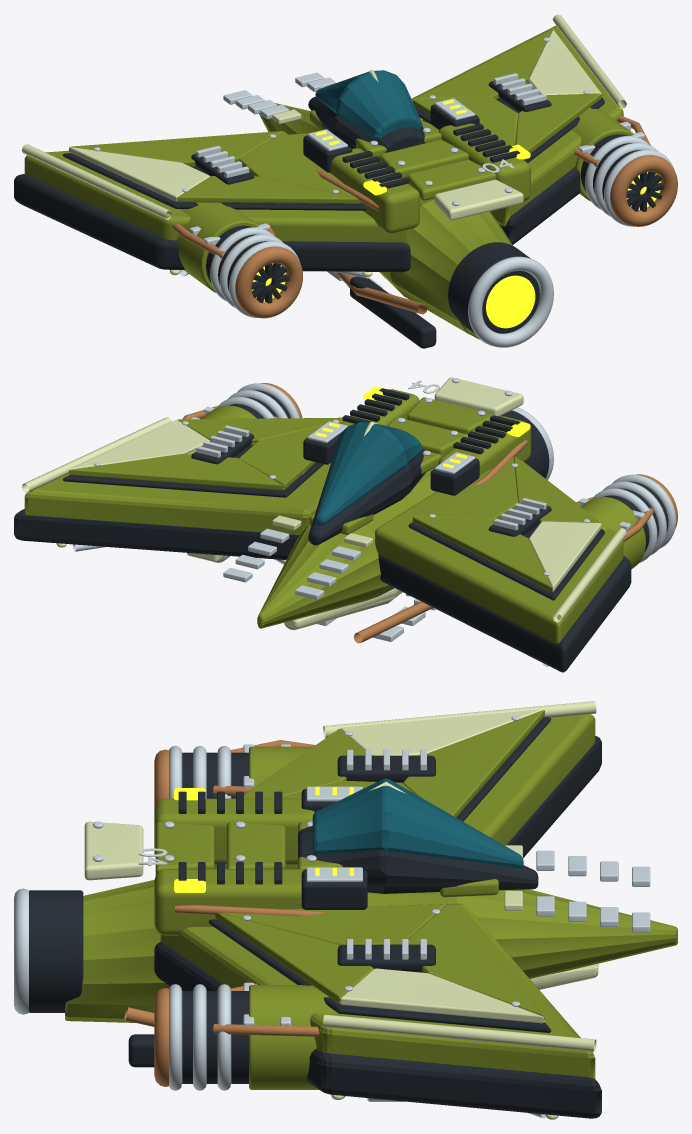
3 views of the same model, one above another, from view 1: azimuth 30°, elevation 25°; view 2: azimuth 150°, elevation 25°; view 3: azimuth 270°, elevation 25° (orthographic). The views are drawn at different scales.
Parts seen in each view (by area): view 1: SolidHull_04; view 2: SolidHull_04; view 3: SolidHull_04.
Part boxes in pixels (<box>): SolidHull_04: <box>14,14,677,348</box>; SolidHull_04: <box>14,377,677,672</box>; SolidHull_04: <box>14,701,677,1119</box>.
Bounding box in the file's own units: 3.38 × 1.15 × 2.71.
